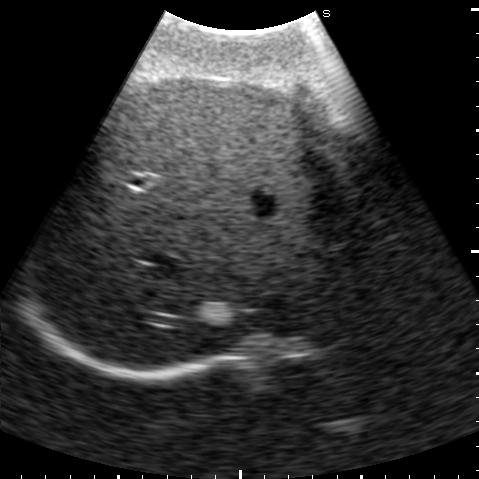S5: (108, 76, 337, 194)
S7: (31, 152, 167, 309)
S8: (77, 175, 375, 371)
Tumor: (195, 301, 234, 325)
